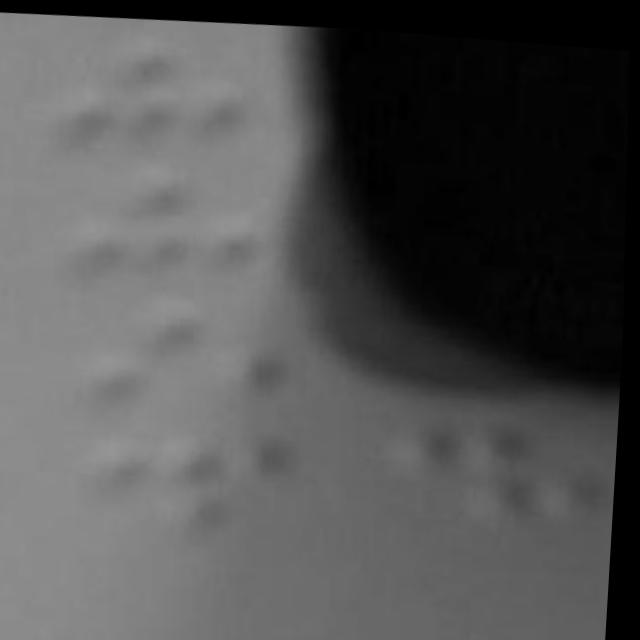braiile: (29, 5, 279, 157), (61, 271, 301, 422), (52, 402, 311, 541), (373, 400, 623, 537), (29, 148, 276, 284)
